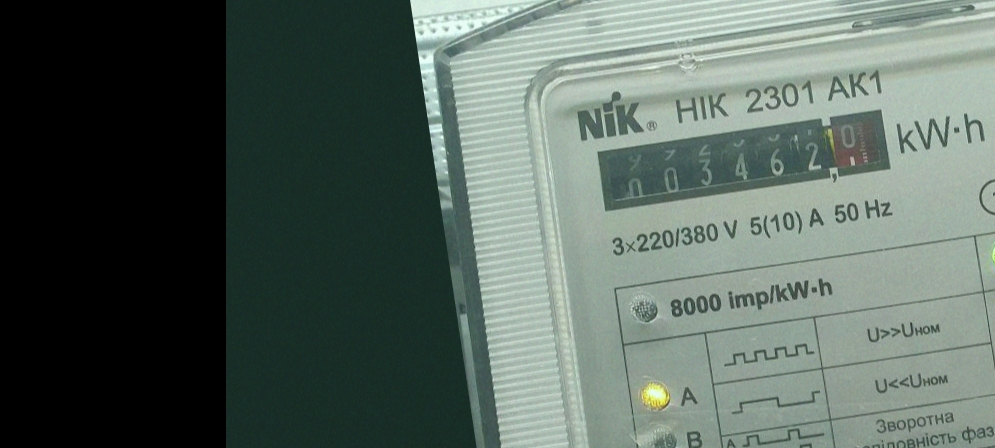0: (660, 162, 682, 194), (838, 121, 859, 151), (623, 174, 646, 199)
2: (802, 138, 825, 173)
3: (694, 155, 717, 190)
4: (731, 149, 752, 183)
6: (765, 144, 789, 180)
9: (623, 151, 646, 173)
screen: (583, 95, 905, 231)
